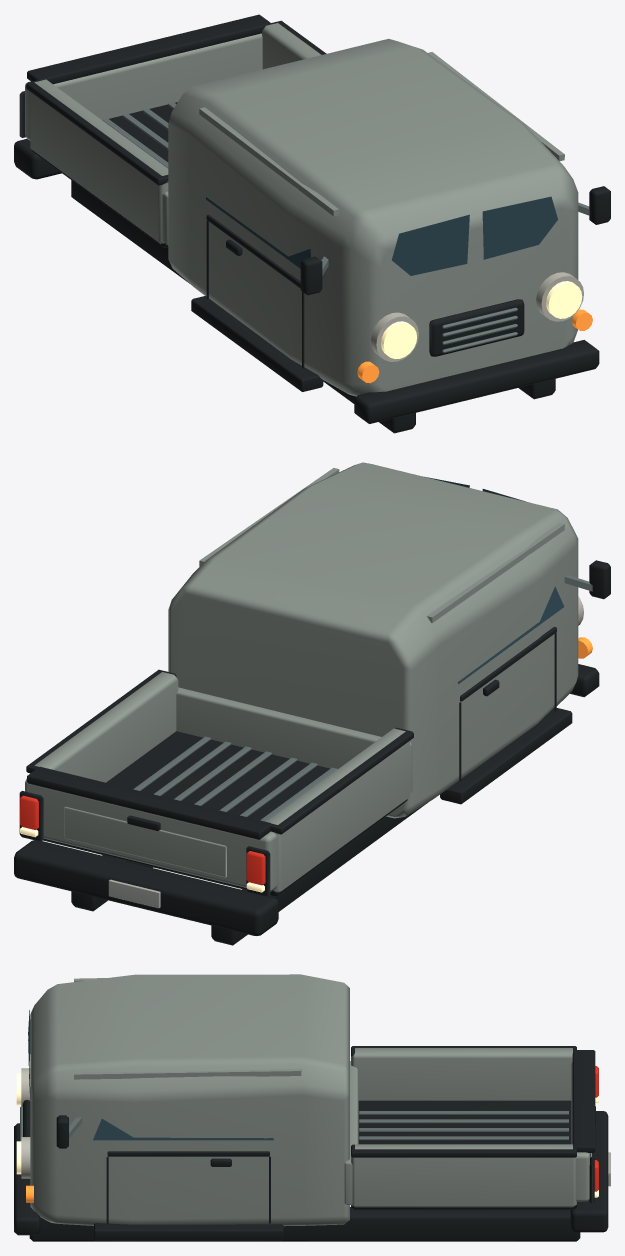
File: bukhanka.glb
The picture shows the model from 3 angles, top to bottom: view 1: azimuth 30°, elevation 25°; view 2: azimuth 150°, elevation 25°; view 3: azimuth 270°, elevation 25°; orthographic projection. The views are drawn at different scales.
Parts seen in each view (by area): view 1: bukhanka_VanPaint, bukhanka_Polymer, bukhanka_TintedGlass, bukhanka_Steel, bukhanka_Headlamps, bukhanka_Brightwork, bukhanka_Indicator; view 2: bukhanka_VanPaint, bukhanka_Polymer, bukhanka_Steel, bukhanka_TailLamps, bukhanka_Aluminium, bukhanka_TintedGlass; view 3: bukhanka_VanPaint, bukhanka_Polymer, bukhanka_Steel, bukhanka_TintedGlass, bukhanka_Brightwork, bukhanka_Headlamps.
Part boxes in pixels (<box>): bukhanka_VanPaint: <box>25,23,578,396</box>; bukhanka_Polymer: <box>14,14,610,433</box>; bukhanka_TintedGlass: <box>206,196,557,275</box>; bukhanka_Steel: <box>102,102,589,353</box>; bukhanka_Headlamps: <box>381,281,582,359</box>; bukhanka_Brightwork: <box>371,272,583,361</box>; bukhanka_Indicator: <box>357,309,592,383</box>; bukhanka_VanPaint: <box>25,462,578,892</box>; bukhanka_Polymer: <box>14,560,610,945</box>; bukhanka_Steel: <box>133,575,592,821</box>; bukhanka_TailLamps: <box>20,795,265,885</box>; bukhanka_Aluminium: <box>108,879,160,908</box>; bukhanka_TintedGlass: <box>424,476,564,684</box>; bukhanka_VanPaint: <box>30,974,591,1226</box>; bukhanka_Polymer: <box>14,1046,608,1241</box>; bukhanka_Steel: <box>20,1106,568,1141</box>; bukhanka_TintedGlass: <box>28,1010,273,1140</box>; bukhanka_Brightwork: <box>21,1068,30,1178</box>; bukhanka_Headlamps: <box>16,1073,598,1197</box>.
Bounding box in the file's own units: 2.41 × 1.71 × 4.78.
